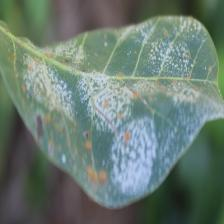red rust: (0, 13, 224, 209)
